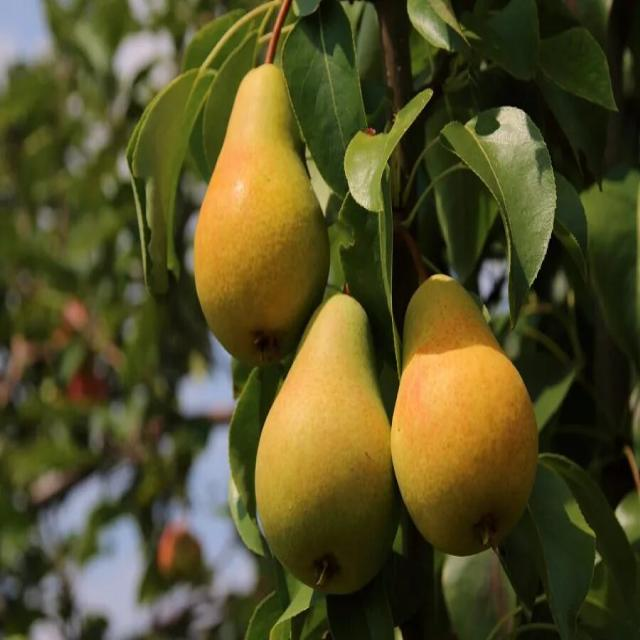pear: (390, 262, 542, 596), (249, 277, 399, 598), (191, 60, 331, 367)
